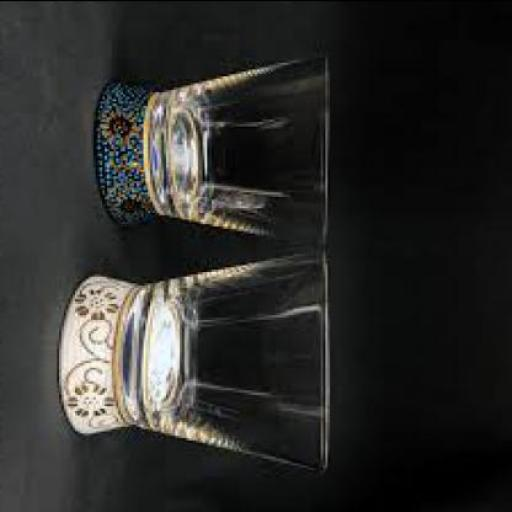glass: (126, 255, 332, 474), (155, 58, 330, 250)
